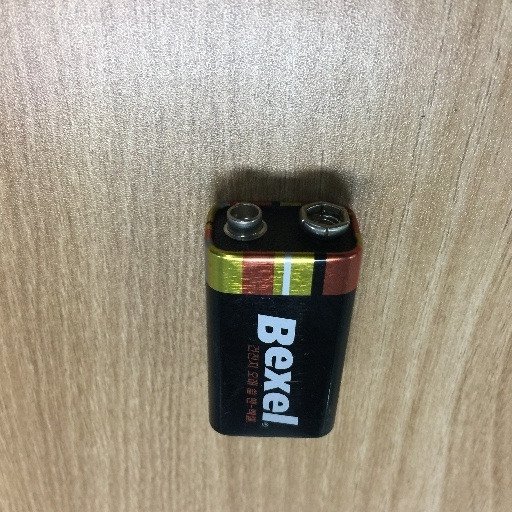Battery_3: (181, 171, 377, 453)
